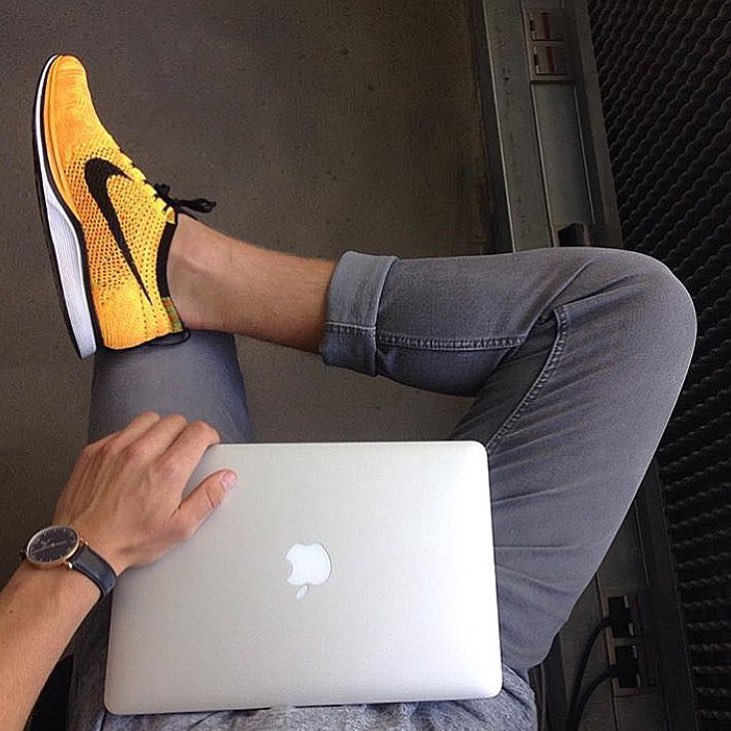sneaker: (25, 40, 224, 371)
